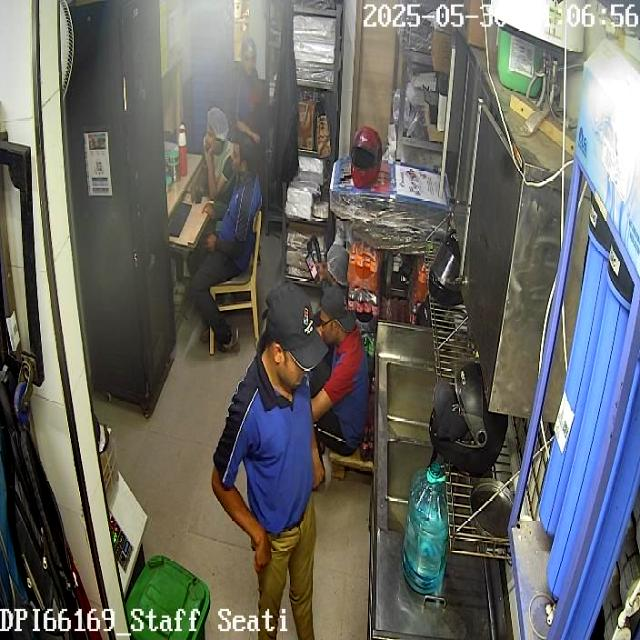helmet: (429, 360, 508, 478), (427, 229, 461, 312), (350, 124, 383, 189)
